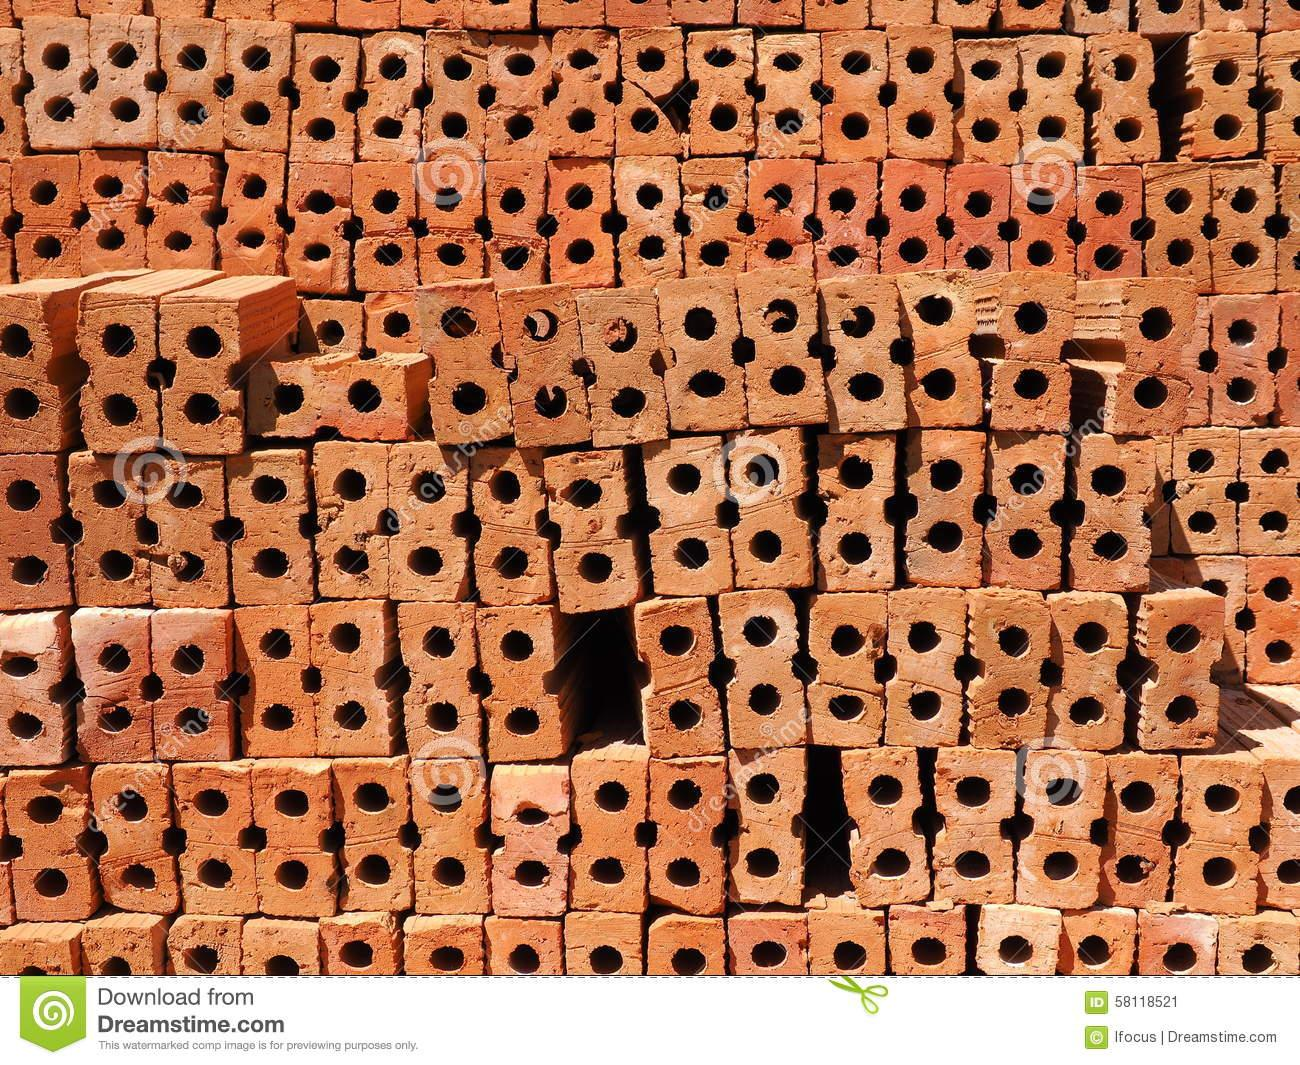brick: (417, 280, 513, 444), (544, 450, 639, 615), (498, 283, 591, 447), (634, 597, 726, 758), (1173, 755, 1263, 915), (579, 285, 666, 448), (1017, 749, 1106, 909), (736, 267, 827, 423), (642, 436, 731, 595), (718, 590, 805, 749), (841, 747, 929, 906), (821, 275, 907, 434), (990, 270, 1075, 430), (659, 278, 745, 431), (476, 607, 563, 760), (729, 428, 812, 587), (898, 269, 983, 426), (1070, 434, 1154, 591), (78, 292, 159, 453), (1113, 278, 1196, 434), (160, 298, 243, 454), (172, 763, 256, 916), (5, 768, 90, 921), (229, 450, 312, 604), (398, 602, 480, 756), (905, 431, 986, 587), (885, 590, 966, 745), (92, 767, 178, 913), (253, 766, 336, 917), (389, 443, 468, 602), (972, 592, 1052, 749), (1142, 596, 1224, 749), (471, 449, 551, 605), (807, 593, 888, 746), (1046, 593, 1125, 750), (69, 456, 151, 605), (250, 362, 405, 441), (146, 461, 229, 607), (817, 434, 895, 590), (311, 601, 389, 756), (1103, 752, 1181, 907), (235, 605, 315, 756), (71, 614, 153, 760), (988, 434, 1066, 589), (934, 751, 1013, 903), (410, 760, 489, 913), (489, 766, 569, 916), (729, 749, 804, 905), (314, 441, 389, 598), (333, 760, 411, 909), (572, 757, 648, 912), (152, 610, 230, 760), (650, 759, 725, 914), (1, 454, 71, 608), (1087, 32, 1161, 164), (0, 291, 58, 451), (289, 33, 361, 164), (1209, 295, 1279, 427), (886, 24, 953, 160), (0, 619, 62, 767), (90, 14, 158, 146), (1143, 162, 1210, 293), (23, 15, 90, 146), (1190, 29, 1258, 158), (615, 156, 682, 285), (615, 27, 683, 154), (226, 19, 292, 150), (1211, 160, 1276, 293), (285, 163, 351, 293), (159, 17, 224, 149), (550, 29, 617, 157), (822, 30, 886, 161), (352, 162, 418, 291), (217, 149, 284, 275), (13, 156, 80, 282), (688, 28, 755, 154), (1019, 36, 1084, 165), (358, 32, 424, 160), (79, 150, 146, 275), (1173, 429, 1240, 553), (549, 159, 613, 286), (422, 30, 486, 159), (954, 39, 1019, 165), (757, 32, 822, 158), (485, 36, 550, 161), (146, 151, 214, 269), (419, 161, 484, 284), (682, 158, 747, 278), (1238, 427, 1300, 552), (745, 160, 815, 269), (486, 162, 546, 287), (815, 162, 878, 279), (882, 160, 946, 273), (1078, 166, 1142, 277), (947, 163, 1010, 274), (1011, 165, 1075, 271), (1248, 556, 1300, 685), (1258, 756, 1300, 907), (1268, 29, 1300, 162)
